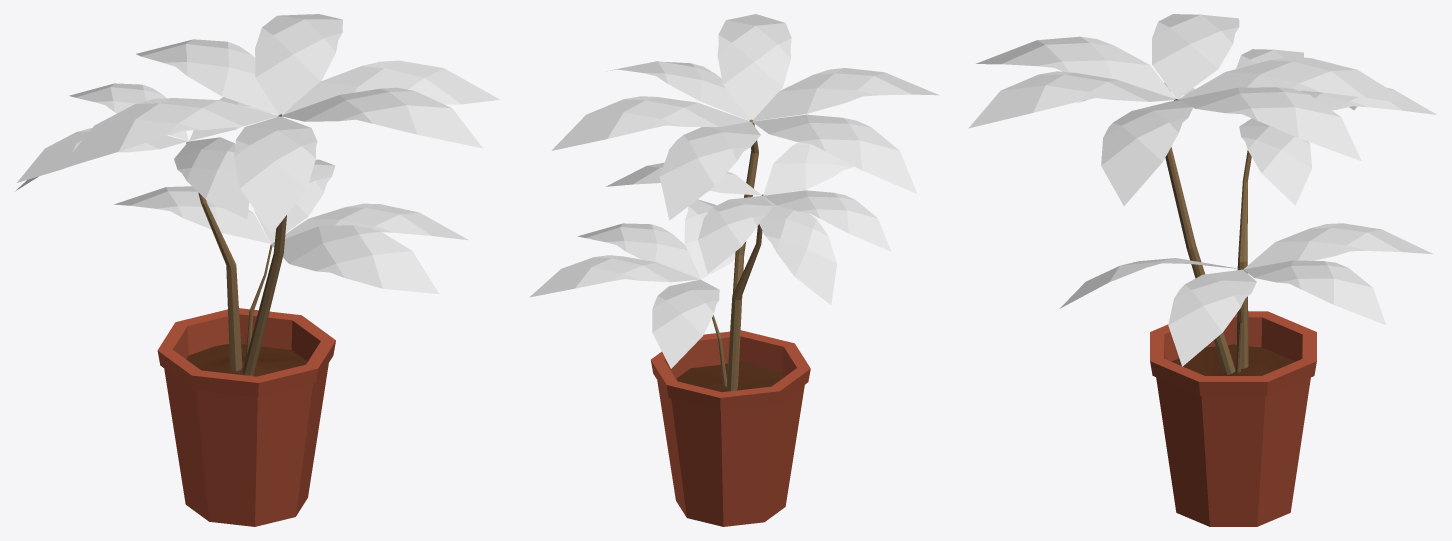
Rendered from Low poly plant.fbx.
3 views of the same model, side by side, from view 1: azimuth 30°, elevation 25°; view 2: azimuth 150°, elevation 25°; view 3: azimuth 270°, elevation 25° (orthographic). The views are drawn at different scales.
Visible parts, largest first — view 1: leaf.004, pot, leaf.003, leaf.014, tige.001, tige.002; view 2: leaf.004, pot, leaf.014, leaf.003, tige.001, tige.002; view 3: leaf.004, pot, leaf.003, leaf.014, tige.002, tige.001.
Boxes of the visible parts, bbox=[...] form: leaf.004: bbox=[58, 14, 500, 233]; pot: bbox=[157, 308, 335, 526]; leaf.003: bbox=[114, 159, 468, 294]; leaf.014: bbox=[15, 83, 293, 219]; tige.001: bbox=[186, 142, 242, 371]; tige.002: bbox=[242, 114, 286, 375]; leaf.004: bbox=[551, 14, 939, 220]; pot: bbox=[651, 330, 810, 526]; leaf.014: bbox=[605, 142, 891, 304]; leaf.003: bbox=[529, 199, 735, 368]; tige.001: bbox=[726, 194, 763, 391]; tige.002: bbox=[732, 119, 758, 386]; leaf.004: bbox=[968, 14, 1413, 205]; pot: bbox=[1150, 311, 1316, 526]; leaf.003: bbox=[1059, 223, 1433, 366]; leaf.014: bbox=[1078, 49, 1436, 205]; tige.002: bbox=[1165, 98, 1235, 374]; tige.001: bbox=[1236, 150, 1251, 368].
Bounding box in the file's own units: 514 × 545 × 516.
